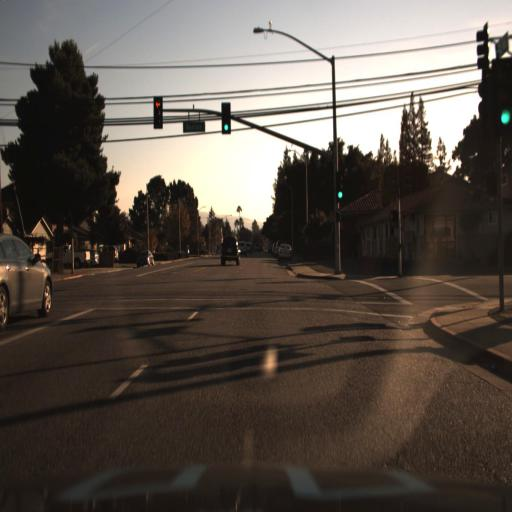car: (0, 234, 54, 329), (60, 244, 97, 276), (218, 233, 239, 270), (135, 249, 157, 269), (278, 241, 294, 265)
trafficLight-Green: (220, 100, 236, 137), (334, 169, 345, 203)
trafficLight-RedLeft: (151, 94, 167, 139)
